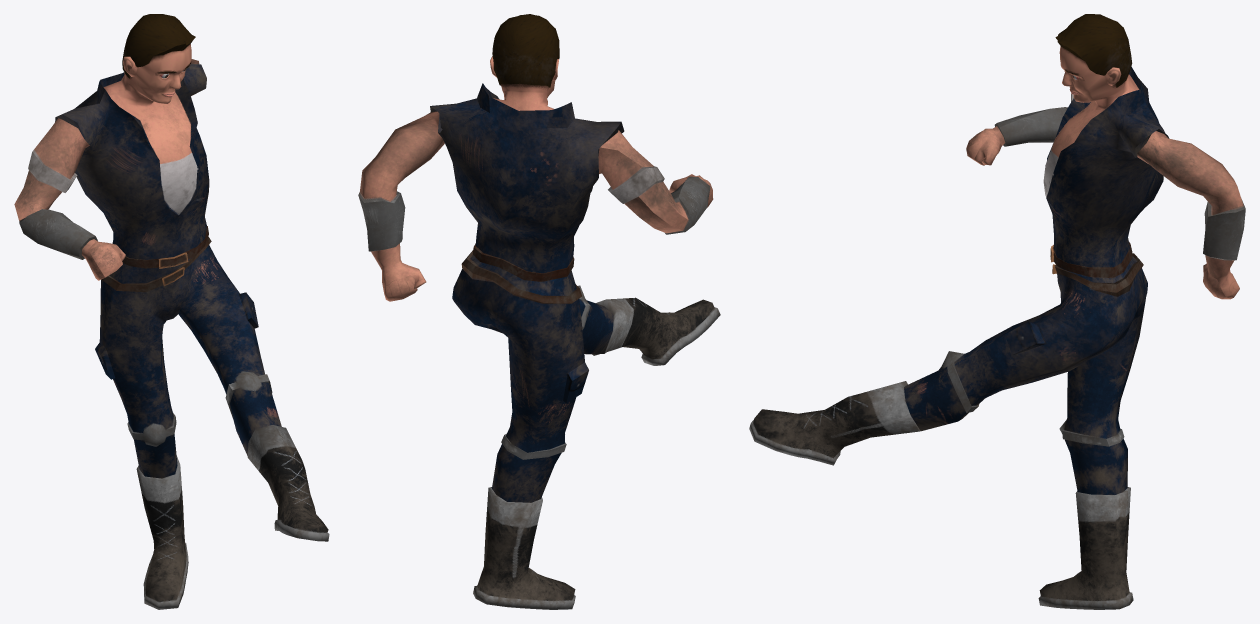
File: Anim_ataque_f2_jugador.0032.obj
3 renders of one model, left to right at view 1: azimuth 30°, elevation 25°; view 2: azimuth 150°, elevation 25°; view 3: azimuth 270°, elevation 25°, orthographic. The views are drawn at different scales.
Visible parts, largest first — view 1: polySurface1; view 2: polySurface1; view 3: polySurface1.
Part boxes in pixels (x1,y1,x2,y2): polySurface1: (14, 14, 329, 609); polySurface1: (358, 14, 720, 609); polySurface1: (749, 14, 1245, 609).
Bounding box in the file's own units: 4.32 × 9.76 × 7.42.
